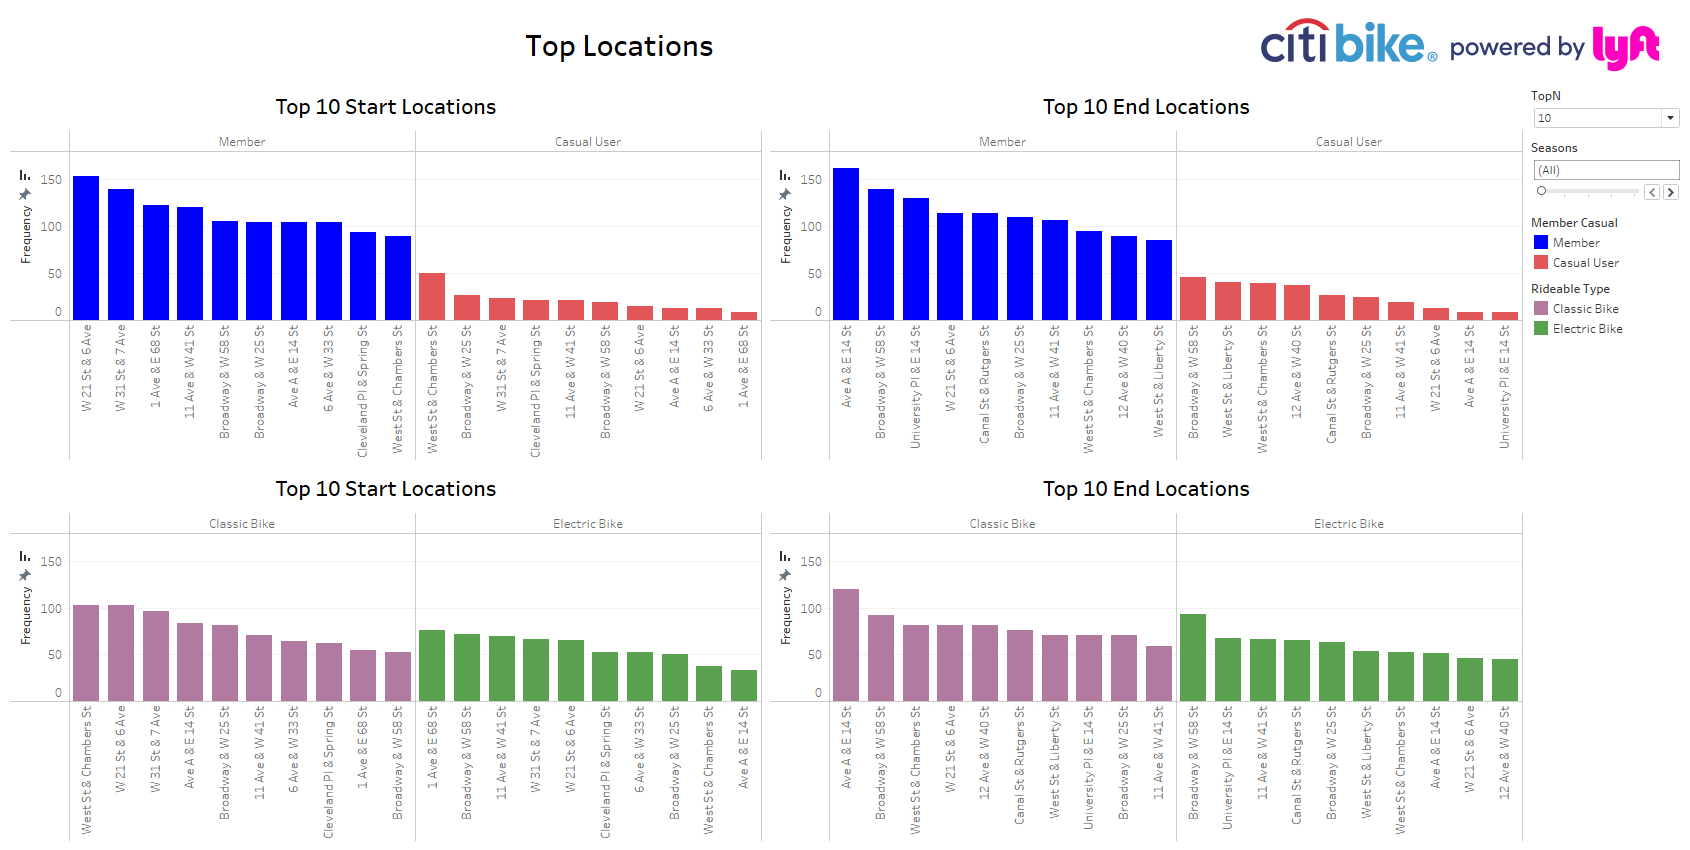

This screenshot's page, from the dashboard's own definition file:
{"tool":"tableau","page":{"name":"Top Locations","canvas":[1000,1000],"units":"permille","ordinal":3},"visuals":[{"type":"text","box":[4.7,9.3,723,90]},{"type":"image","box":[727.8,9.3,267.5,90]},{"type":"worksheet","title":"Top Start Location - Members vs. Casual","mark":"Bar","rows":["Calculation_2627850436904783875"],"cols":["member_casual","start_station_name"],"box":[4.7,99.3,447.9,445.7]},{"type":"worksheet","title":"Top End Location - Members vs. Casual","mark":"Bar","rows":["Calculation_2627850436904783875"],"cols":["member_casual","end_station_name"],"box":[452.6,99.3,448.4,445.7]},{"type":"parameter","param":"[Parameters].[Parameter 1]","box":[901,99.3,94.3,60.8]},{"type":"filter","title":"Top Start Location - Members vs. Casual","param":"[federated.1oxvxop1oxv0kf119dd681grhlnr].[none:Calculation_2627850436903153666:n","box":[901,160.1,94.3,87.6]},{"type":"legend","title":"Top Start Location - Members vs. Casual","param":"[federated.1oxvxop1oxv0kf119dd681grhlnr].[none:member_casual:nk]","box":[901,247.7,94.3,77.1]},{"type":"legend","title":"Top End Location - Rideable Type","param":"[federated.1oxvxop1oxv0kf119dd681grhlnr].[none:rideable_type:nk]","box":[901,324.8,94.3,77.1]},{"type":"worksheet","title":"Top Start Location - Rideable Type","mark":"Bar","rows":["Calculation_2627850436904783875"],"cols":["rideable_type","start_station_name"],"box":[4.7,545,447.9,445.7]},{"type":"worksheet","title":"Top End Location - Rideable Type","mark":"Bar","rows":["Calculation_2627850436904783875"],"cols":["rideable_type","end_station_name"],"box":[452.6,545,448.4,445.7]}]}

Visuals, with their boxes on the dashboard's canvas, which has no fixed pixel size, in thousandths of its width and height (x1, y1, x2, y2). These are canvas units, not pixel positions in the 1690x850 screenshot, which may show the page scaled, cropped or inside an application window:
text: select_region(5, 9, 728, 99)
image: select_region(728, 9, 995, 99)
"Top Start Location - Members vs. Casual" worksheet (Bar marks): select_region(5, 99, 453, 545)
"Top End Location - Members vs. Casual" worksheet (Bar marks): select_region(453, 99, 901, 545)
parameter: select_region(901, 99, 995, 160)
"Top Start Location - Members vs. Casual" filter: select_region(901, 160, 995, 248)
"Top Start Location - Members vs. Casual" legend: select_region(901, 248, 995, 325)
"Top End Location - Rideable Type" legend: select_region(901, 325, 995, 402)
"Top Start Location - Rideable Type" worksheet (Bar marks): select_region(5, 545, 453, 991)
"Top End Location - Rideable Type" worksheet (Bar marks): select_region(453, 545, 901, 991)
